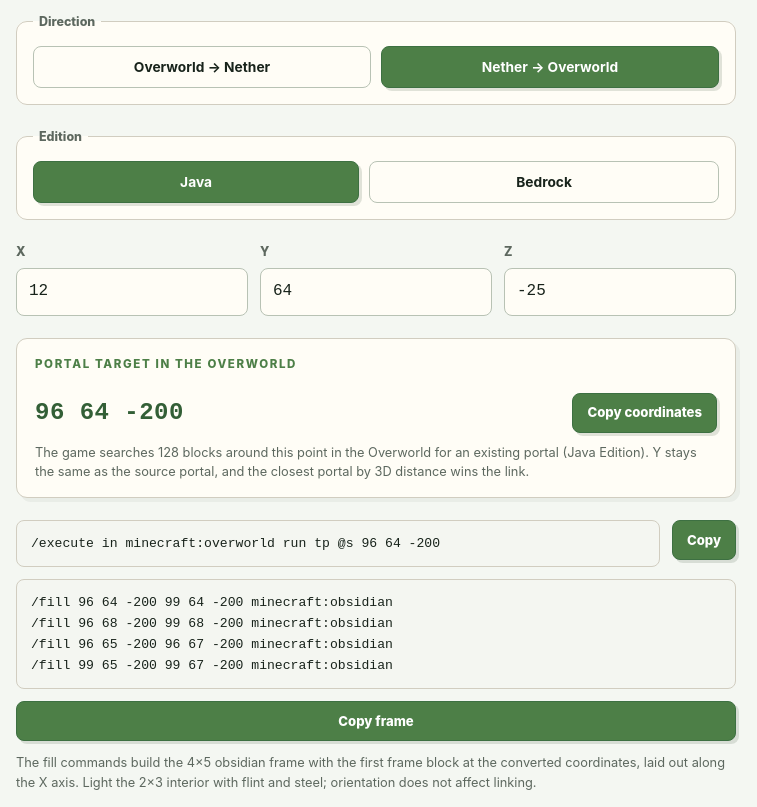
it: NetherPortalCalculator › recomputes when the direction changes
The width and height of the screenshot is (757, 807).
Check: the text named "Converted coordinates" reads "96 64 -200", box [35,399,184,426]
Step 1. Click the radio button labelled "Overworld → Nether" → point(202, 67), box [33,46,371,88]
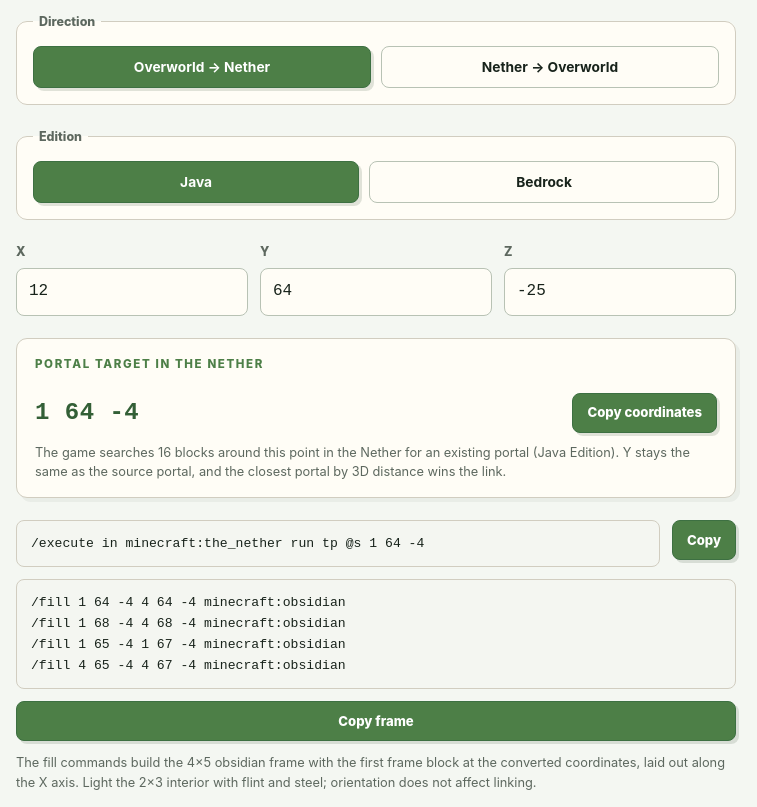
Check: the text named "Converted coordinates" reads "1 64 -4", box [35,399,139,426]
